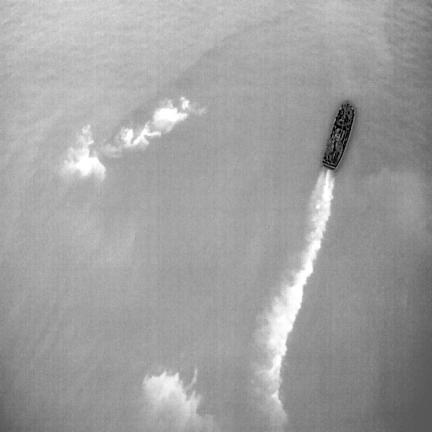flukeprints: (61, 125, 105, 180), (152, 100, 189, 128), (134, 122, 161, 144), (119, 128, 133, 146)
